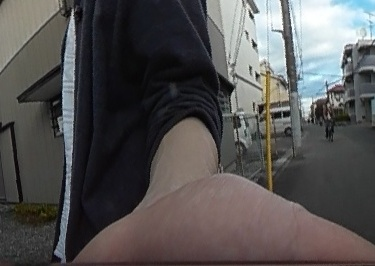person: (326, 112, 335, 137)
